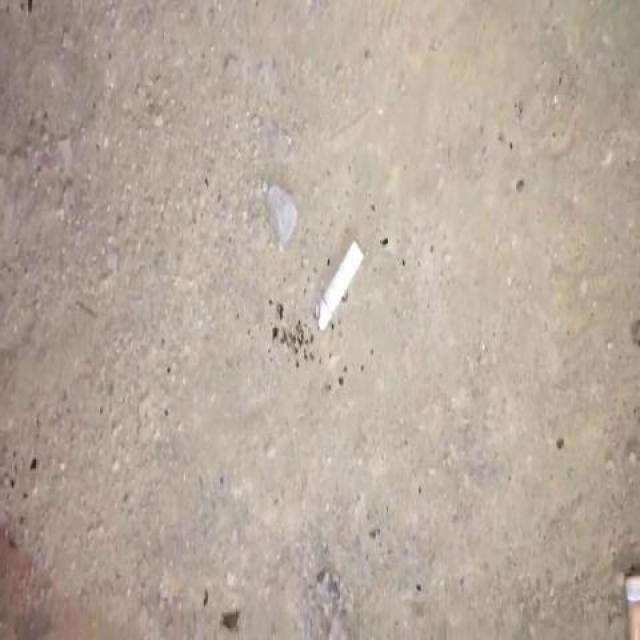non-organic waste: (310, 237, 366, 336)
